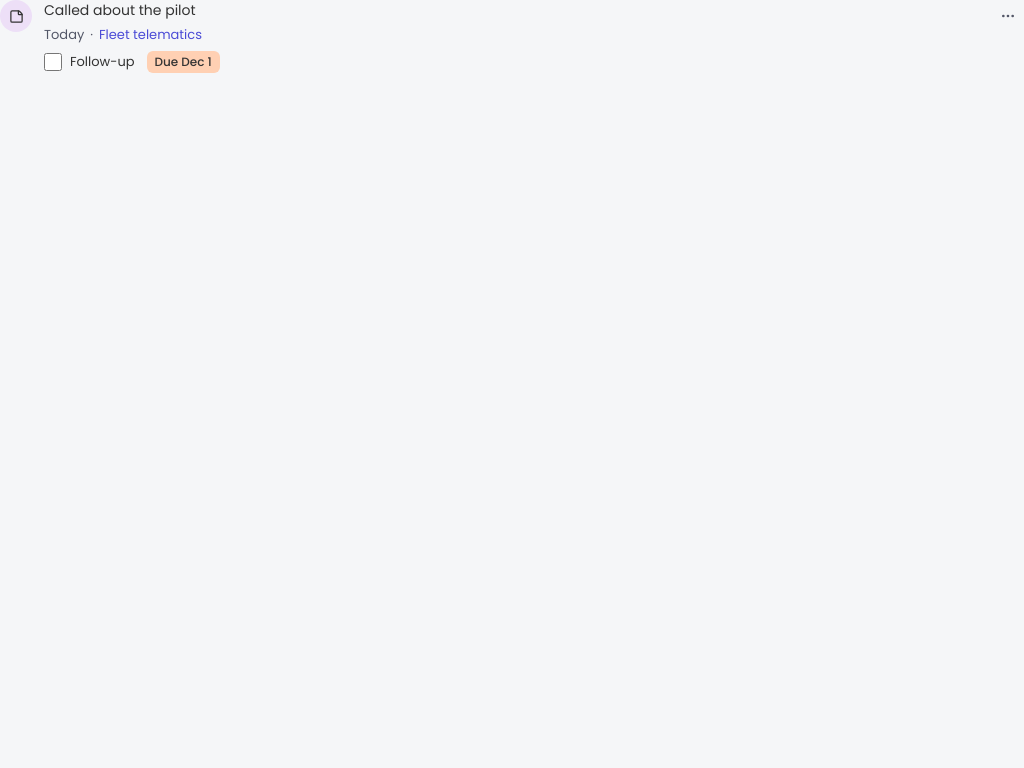
a timeline › edits an entry from its menu
This screenshot has width=1024, height=768.
Click the button named "Actions for Called about the pilot": (1008, 16) left=992, top=0, right=1023, bottom=32
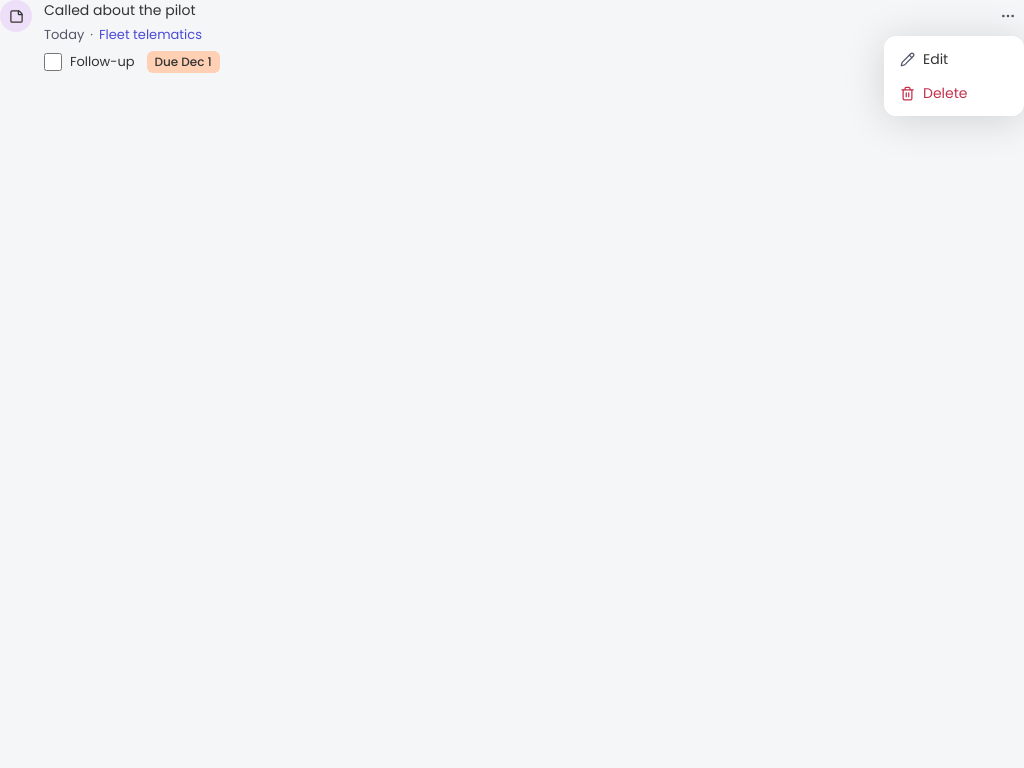
Click the menu item "Edit": (924, 58) left=900, top=48, right=948, bottom=68
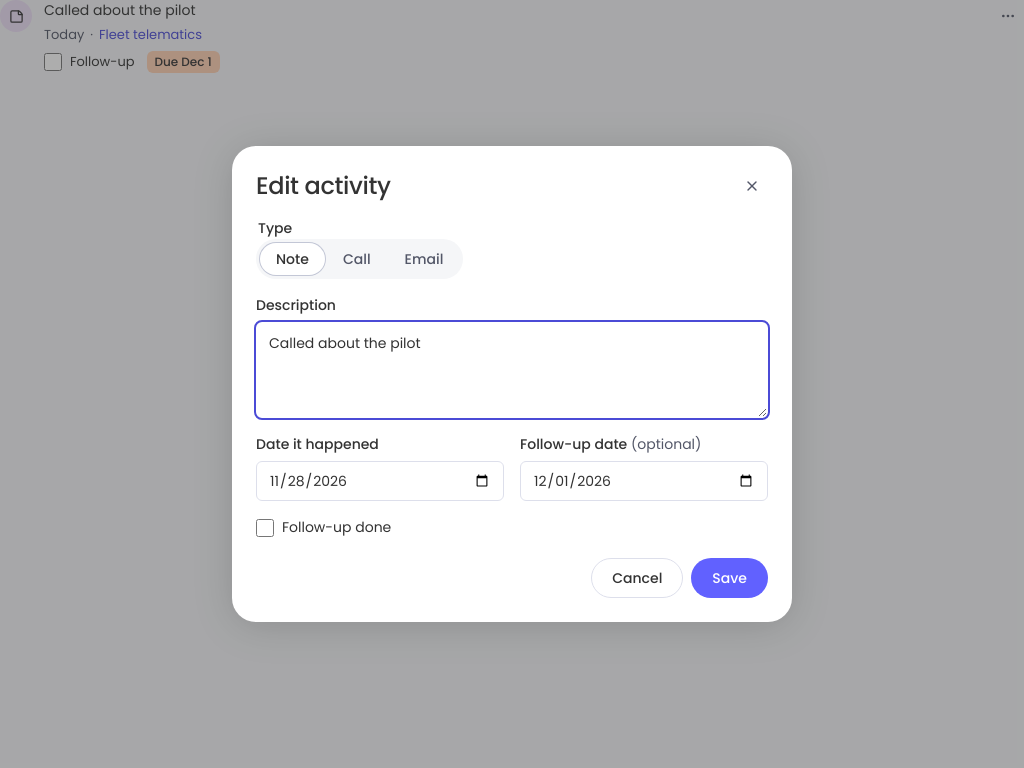
Check: the text box labelled "Description" holds "Called about the pilot", box left=256, top=322, right=768, bottom=418
Check: the radio button labelled "Note" is checked, box left=260, top=243, right=325, bottom=275
Click the radio button labelled "Email": (424, 258) left=405, top=248, right=443, bottom=268
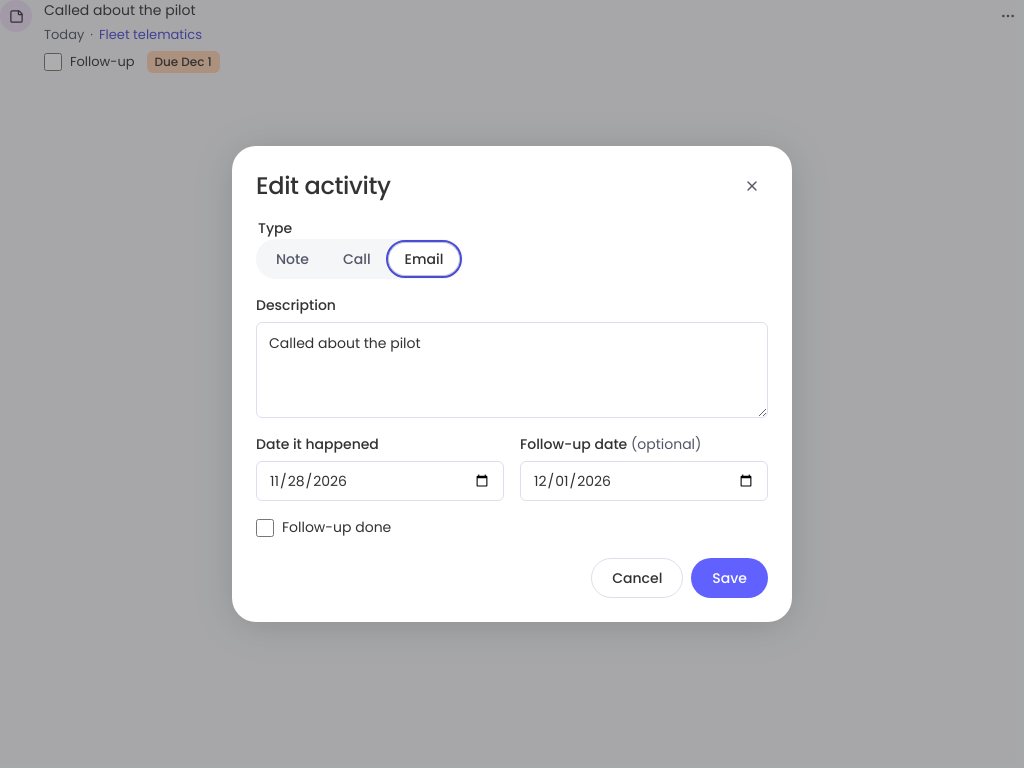
Click the checkbox labelled "Follow-up done": (265, 528) left=256, top=518, right=274, bottom=536
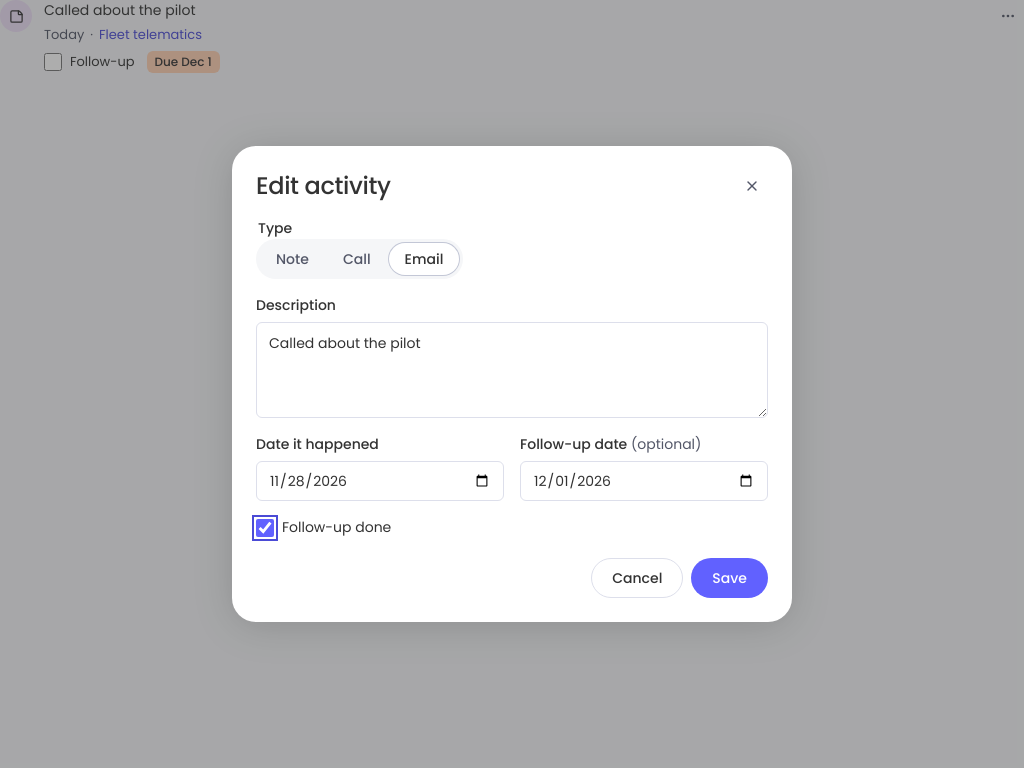
Click the button "Save": (730, 578) left=691, top=558, right=768, bottom=598
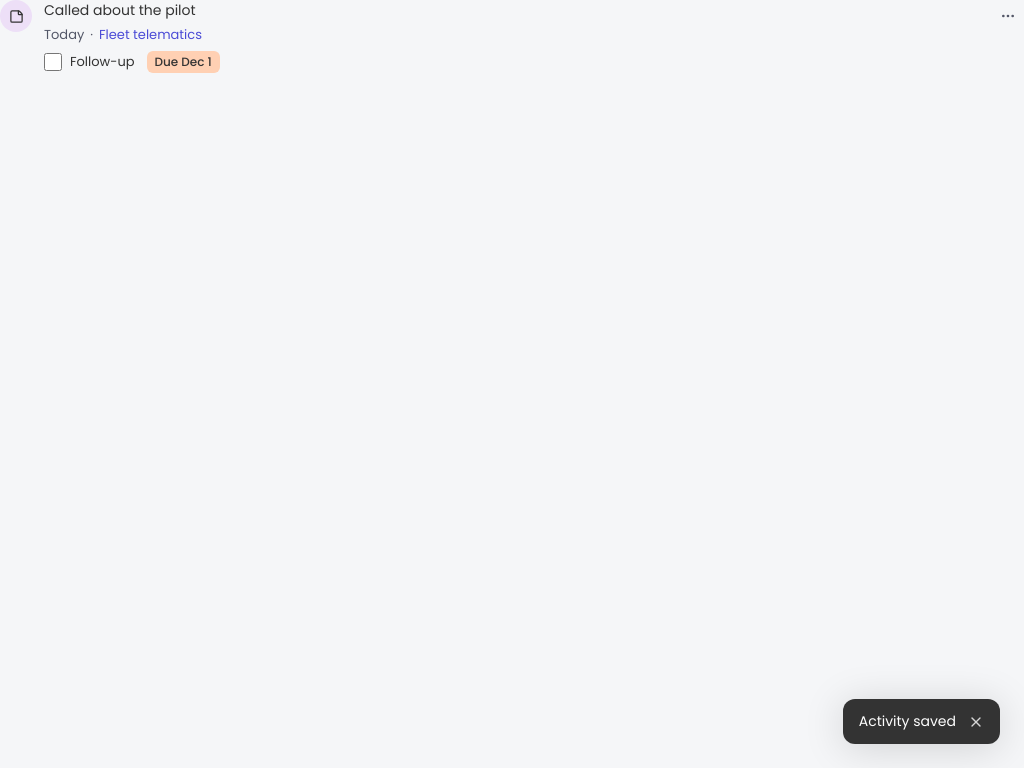
Check: the heading "Edit activity" is gone
Check: the text "Activity saved" is shown, box left=859, top=711, right=956, bottom=732
